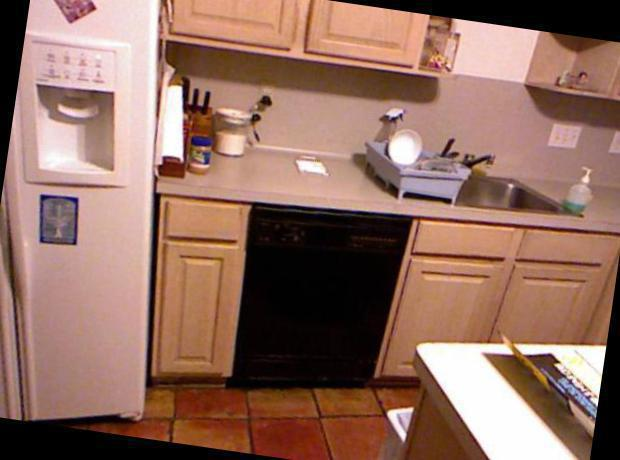Lavaplatos: (383, 140, 588, 243)
